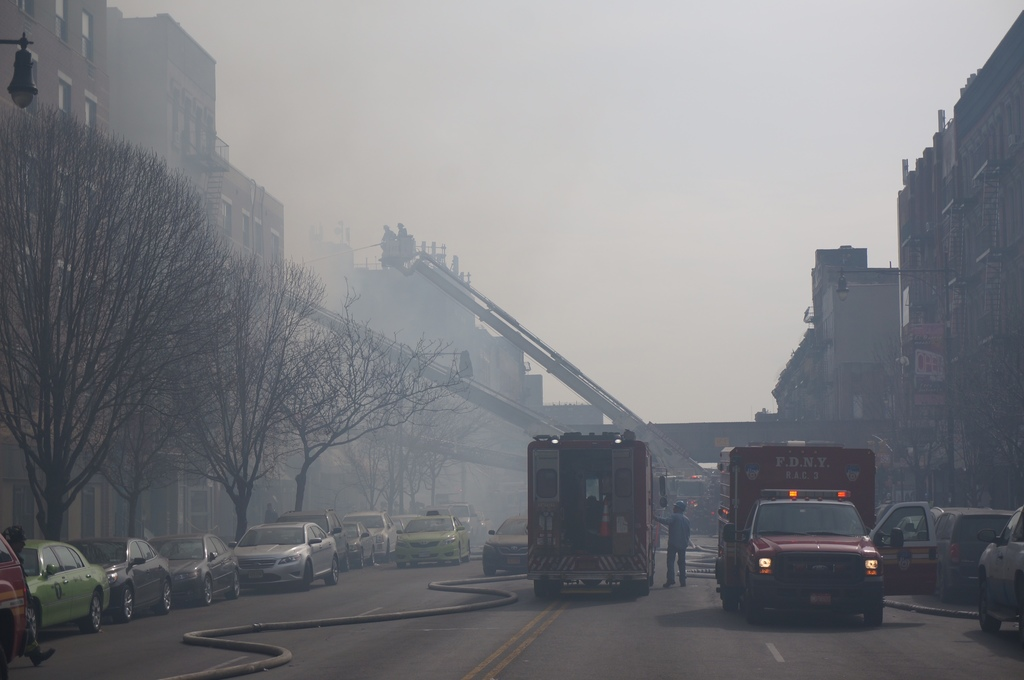Car: (8, 541, 122, 645), (913, 504, 1019, 607), (70, 534, 175, 620), (962, 511, 1023, 641), (160, 525, 250, 612), (234, 520, 339, 593), (392, 510, 473, 564), (346, 510, 402, 570), (330, 516, 377, 581), (480, 520, 528, 576)
